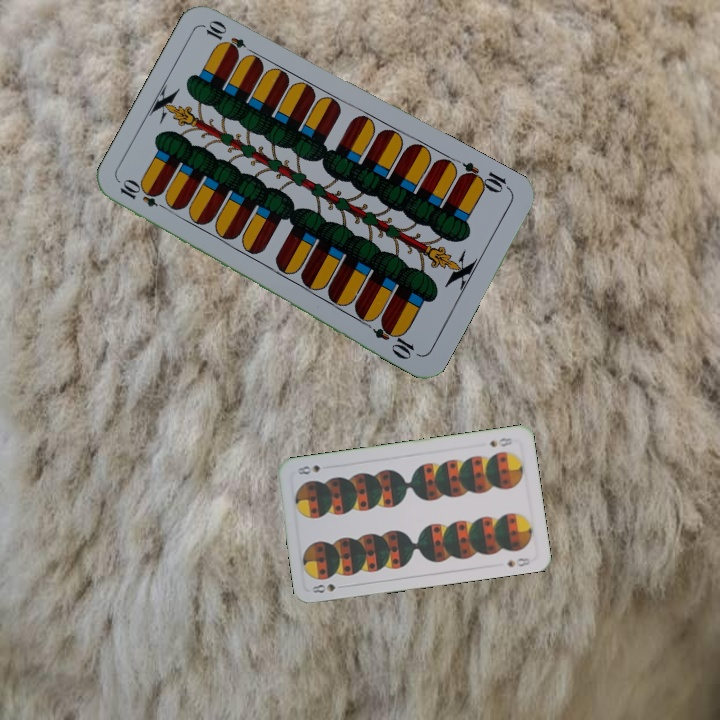E10: (455, 158, 513, 196), (116, 177, 172, 214)
S8: (308, 580, 348, 596), (485, 433, 515, 450)
